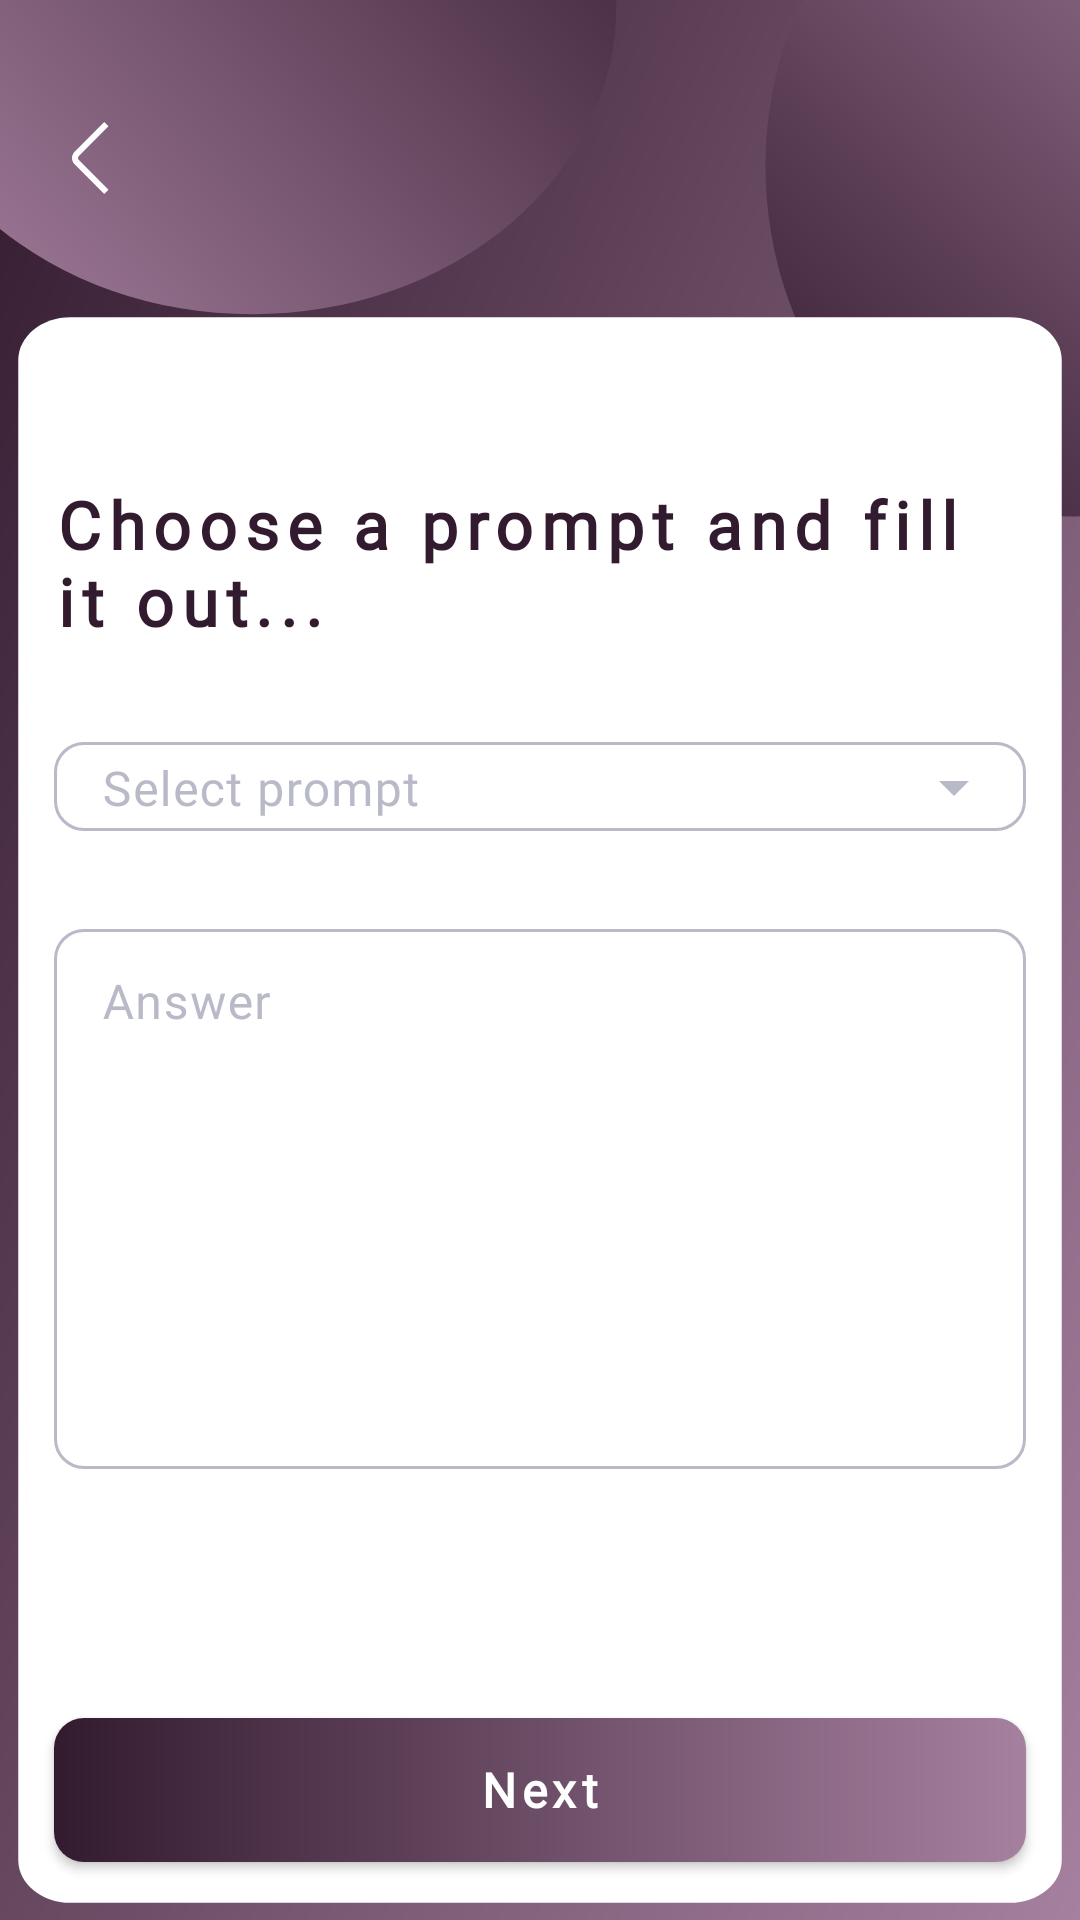

Point at icon controls on the screen. Image size 1080x1920, points as point (x, y).
back arrow: point (90, 158)
